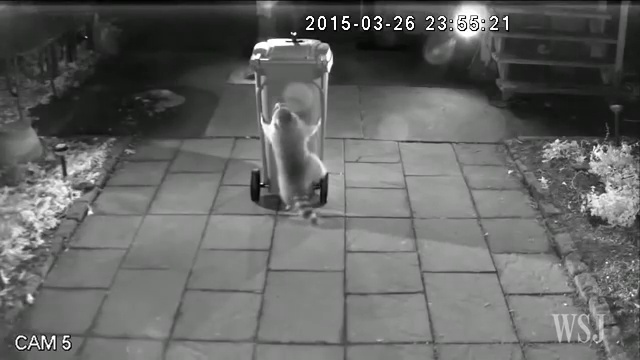raccoon: (257, 98, 337, 229)
